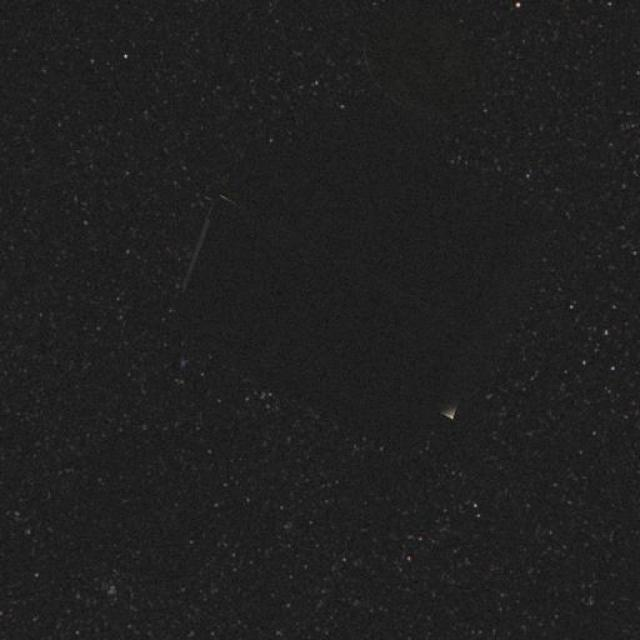debris: (202, 147, 513, 432)
